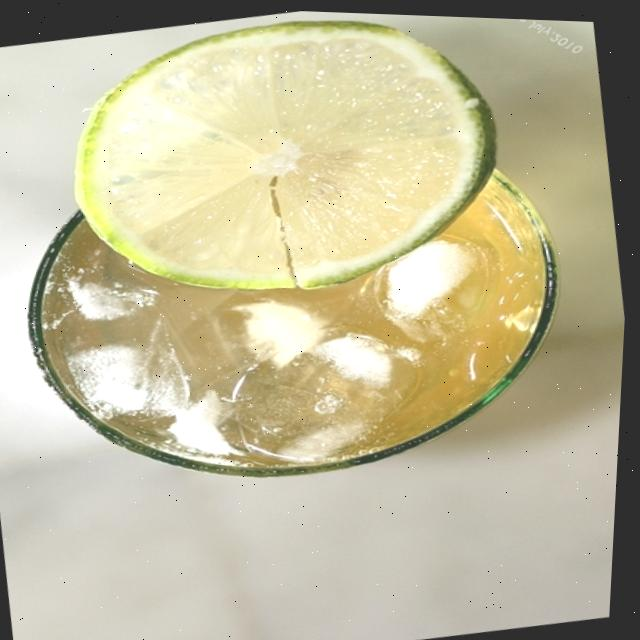蛋糕甜品: (0, 52, 601, 538)
